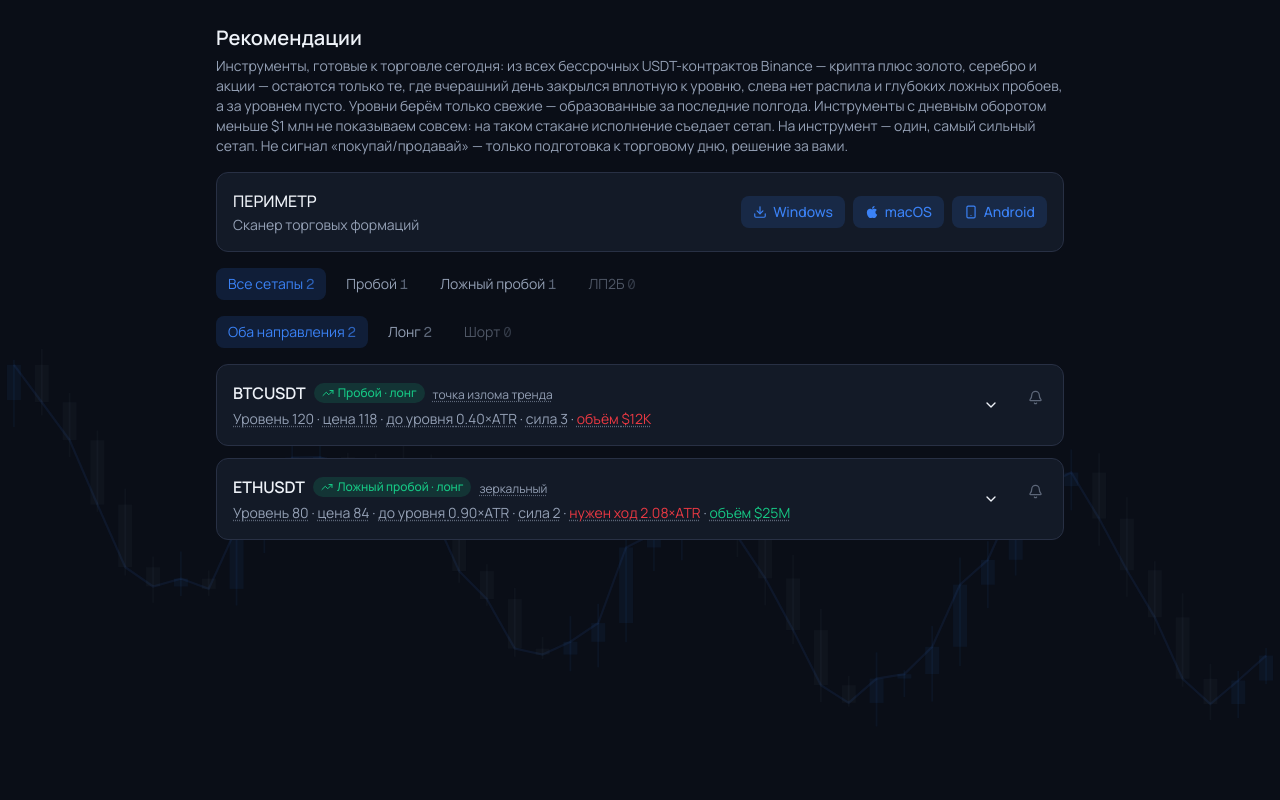
Test case: RecommendationsPage › filters by trade side
expect the text "Пробой · лонг" is shown: met, box x1=314 y1=383 x2=425 y2=403
Click the button "Шорт 0".
click(488, 332)  # box x1=452 y1=316 x2=524 y2=348
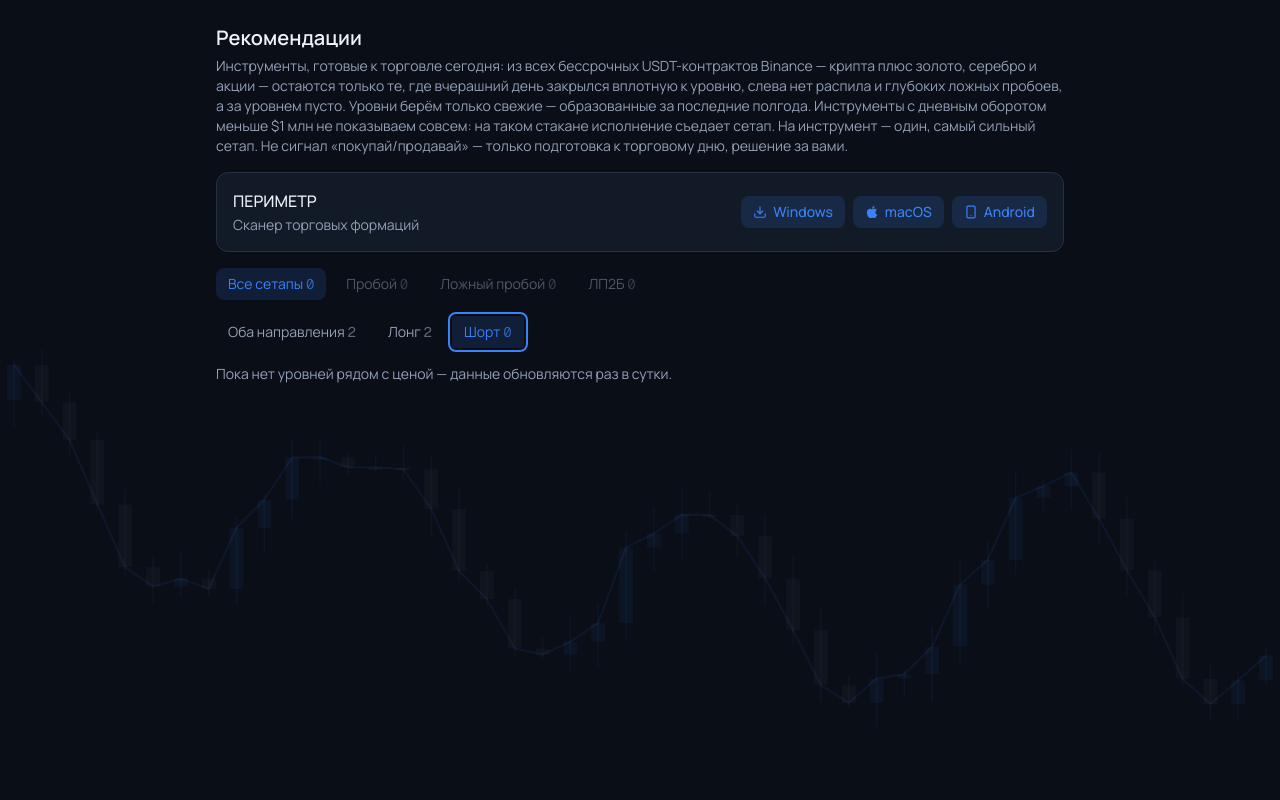
expect the button "BTCUSDT" is gone: met
expect the button "ETHUSDT" is gone: met
Click the button "Лонг 2".
click(410, 332)  # box x1=376 y1=316 x2=444 y2=348
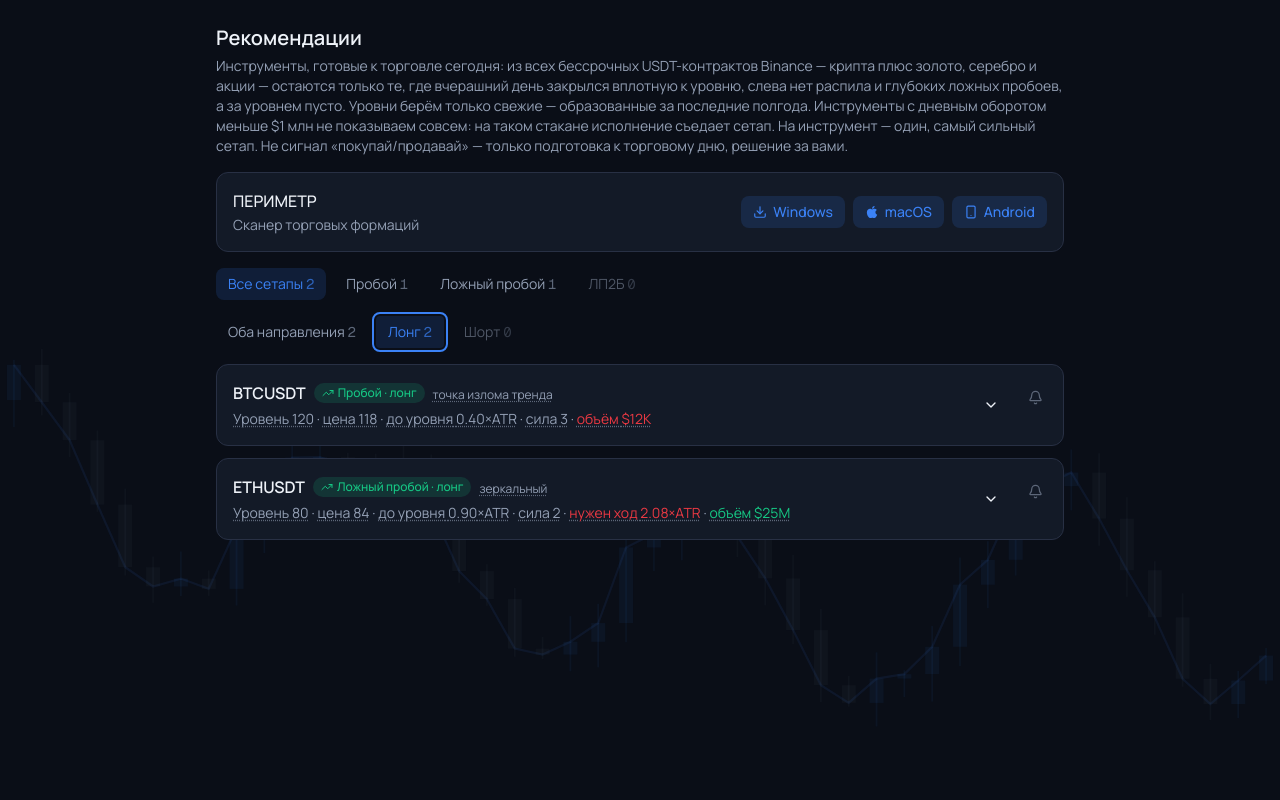
expect the text "BTCUSDT" is shown: met, box x1=233 y1=381 x2=306 y2=405
expect the text "ETHUSDT" is shown: met, box x1=233 y1=475 x2=305 y2=499
